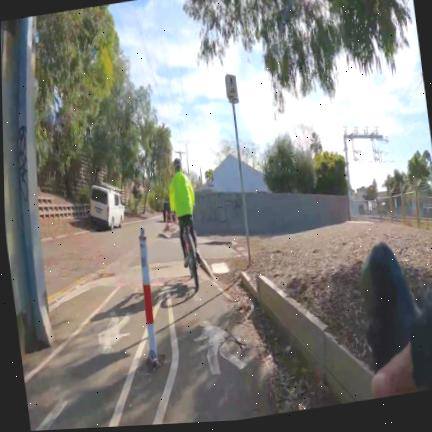Bike_Lane: (163, 283, 271, 424), (25, 312, 146, 431), (229, 313, 247, 342)
